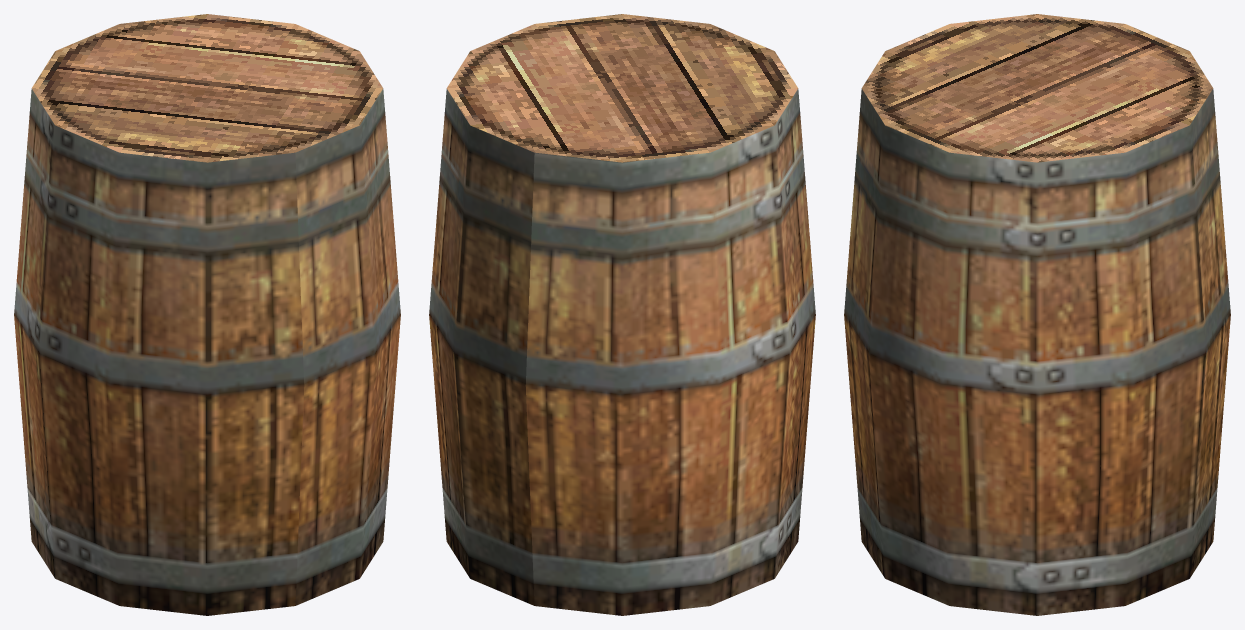
The model's file is bochka1.glb.
3 renders of one model, left to right at view 1: azimuth 30°, elevation 25°; view 2: azimuth 150°, elevation 25°; view 3: azimuth 270°, elevation 25°, orthographic.
Parts seen in each view (by area): view 1: bochka1-col; view 2: bochka1-col; view 3: bochka1-col.
Part boxes in pixels (box(x1,y1,x2,y2)): bochka1-col: box(14, 14, 400, 615); bochka1-col: box(429, 14, 815, 615); bochka1-col: box(844, 14, 1230, 615).
Size of the model in its own units: 0.8552 by 1.11 by 0.8552.
2 materials, 2 textured.
